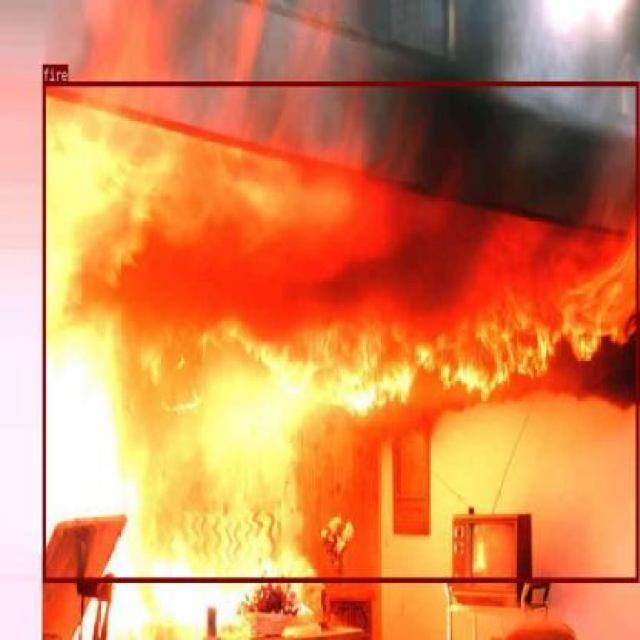Fire: (41, 81, 638, 581)
